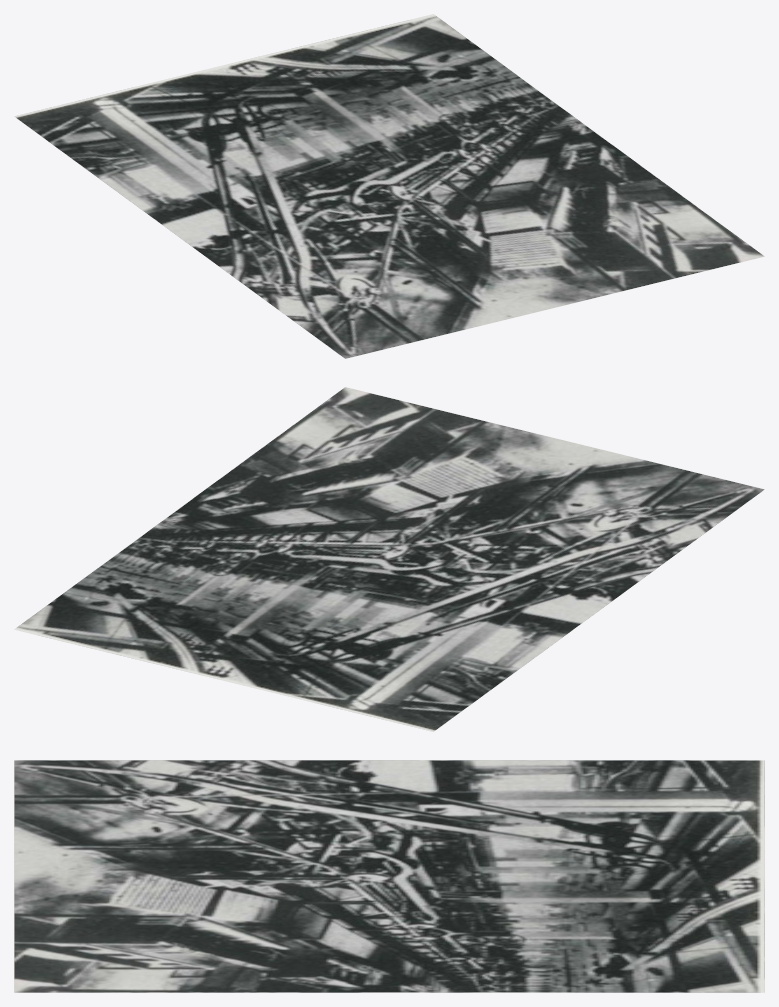
File: PROVA CHASSIS.obj
3 renders of one model, top to bottom at view 1: azimuth 30°, elevation 25°; view 2: azimuth 150°, elevation 25°; view 3: azimuth 270°, elevation 25°, orthographic. The views are drawn at different scales.
Visible parts, largest first — view 1: Plane001; view 2: Plane001; view 3: Plane001.
Boxes of the visible parts, box(x1,y1,x2,y2) form: Plane001: box(14, 14, 764, 358); Plane001: box(14, 387, 764, 731); Plane001: box(14, 760, 764, 992).
Size of the model in its own units: 2.69 by 0 by 3.67.
